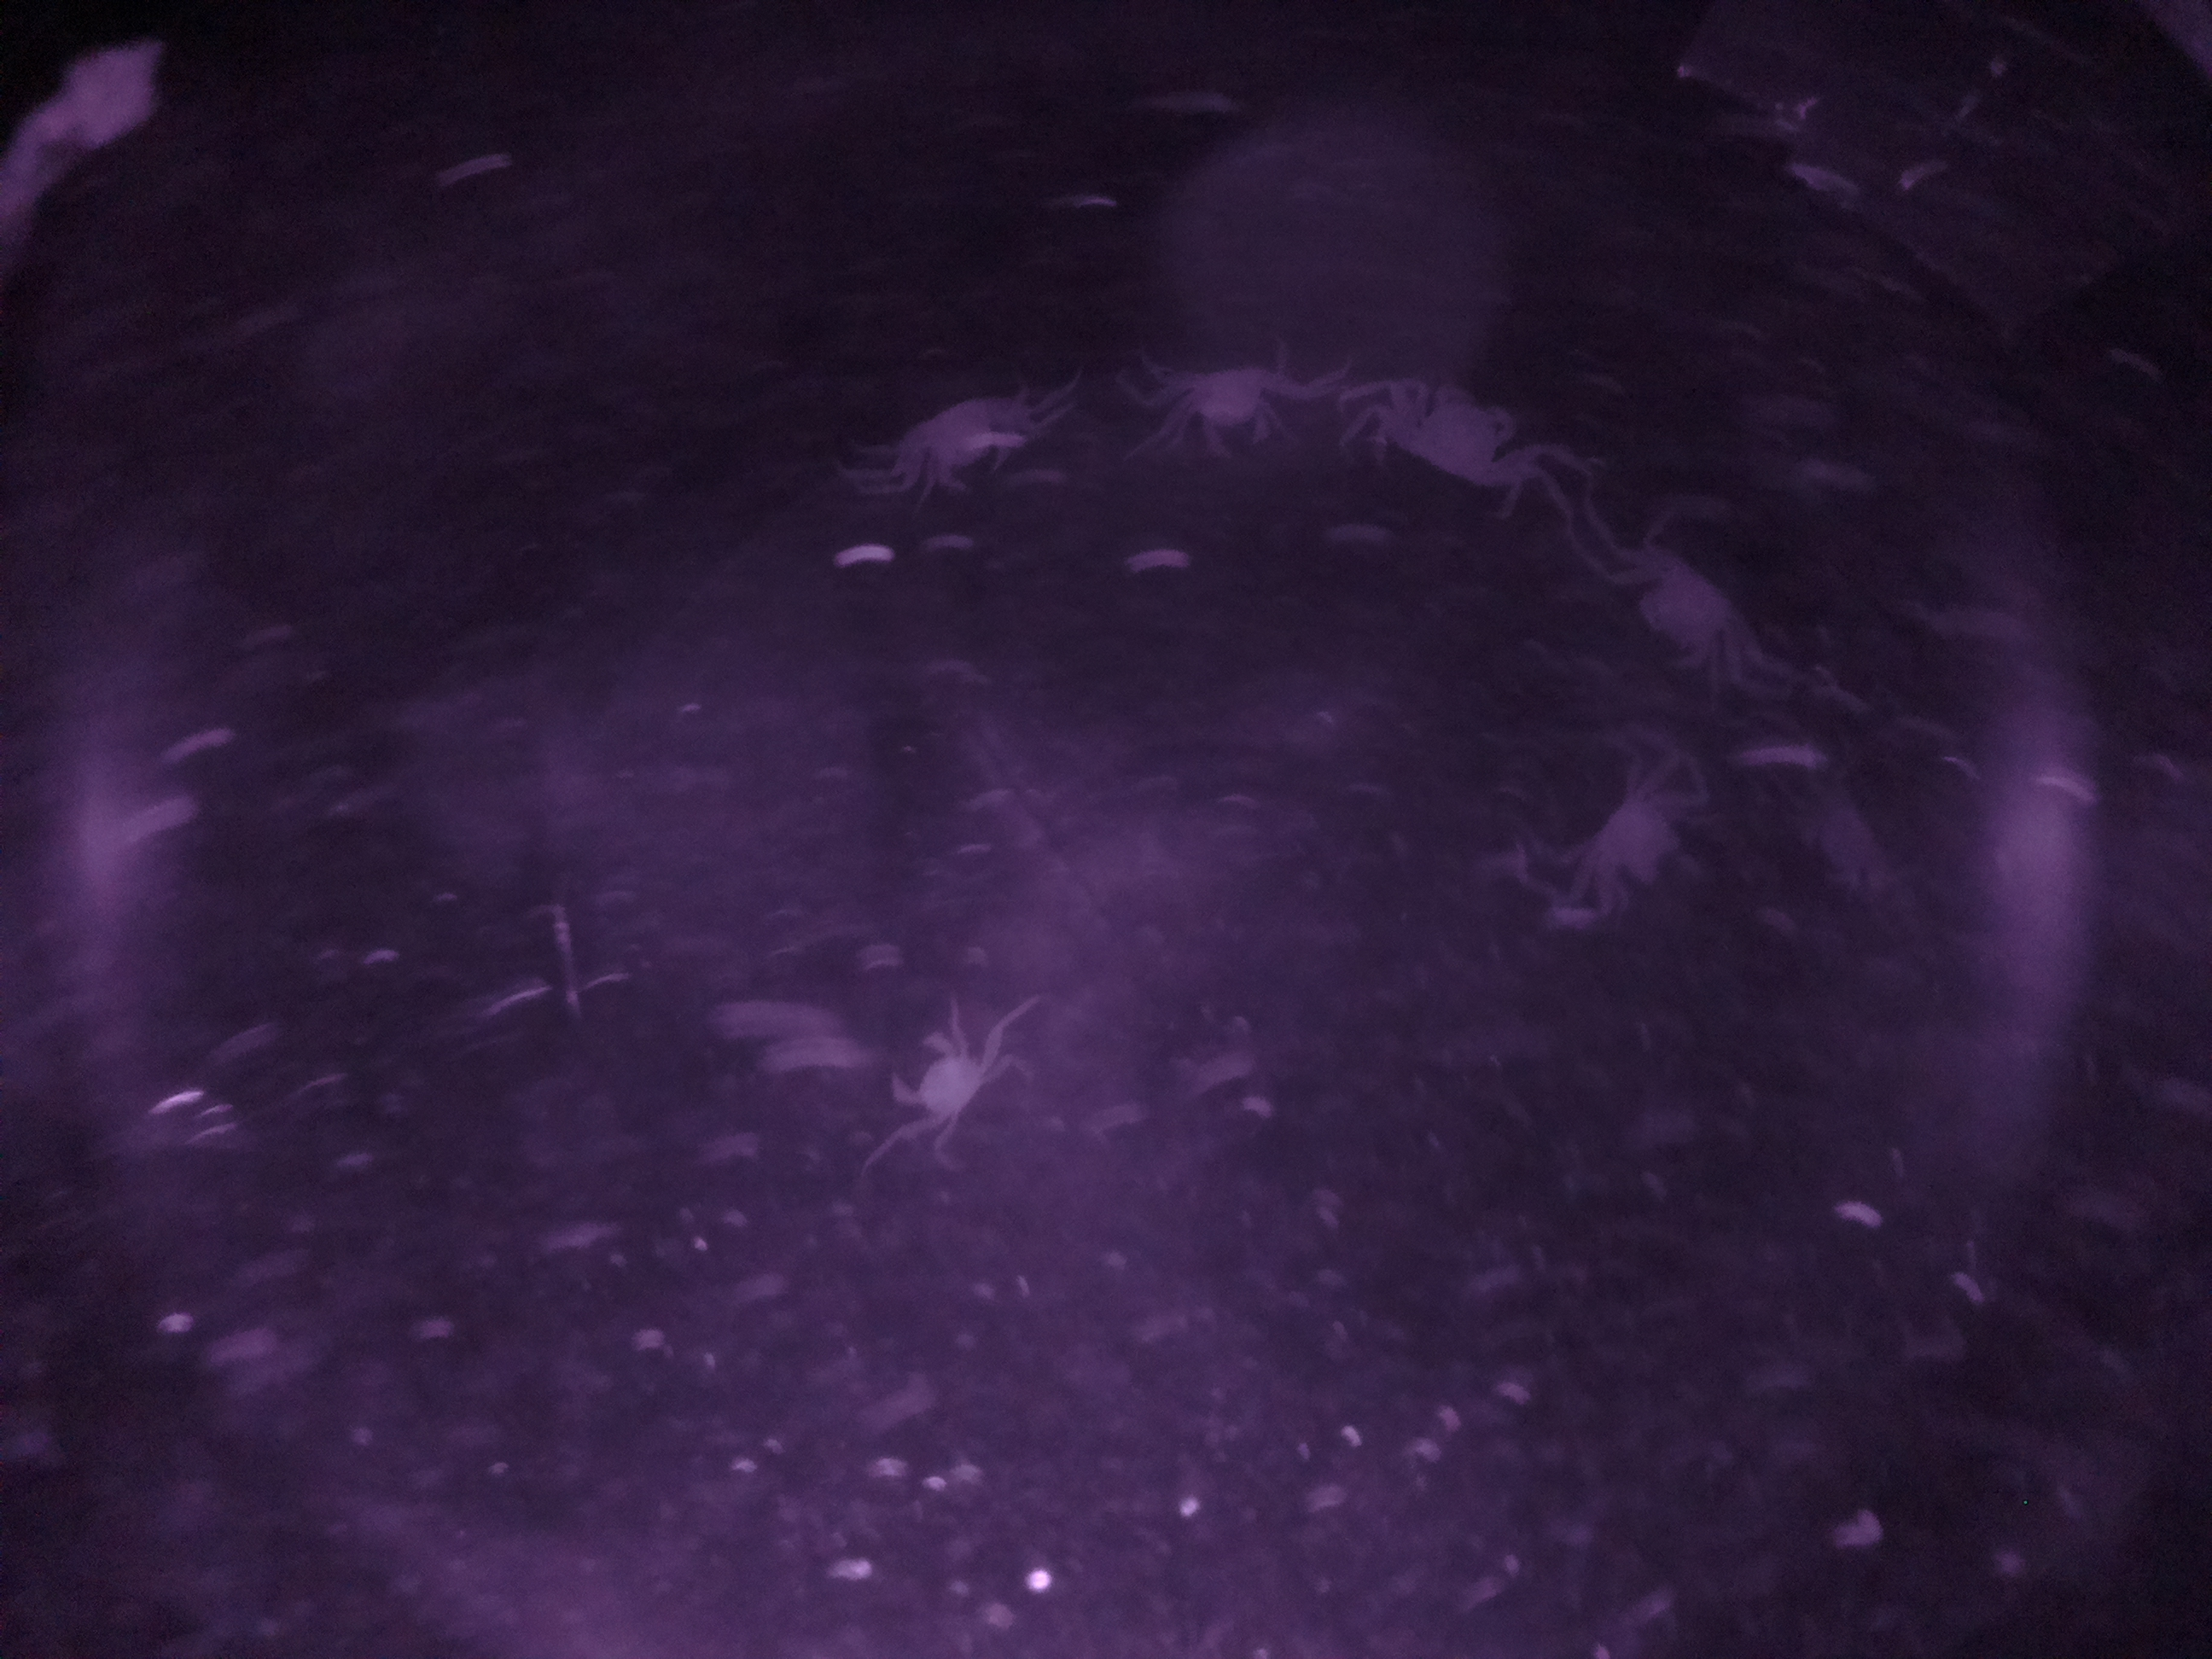Crab: (1345, 369, 1581, 526), (857, 364, 1071, 526), (1609, 523, 1804, 699), (1548, 737, 1717, 922), (1125, 331, 1312, 488), (874, 1009, 1033, 1166)
